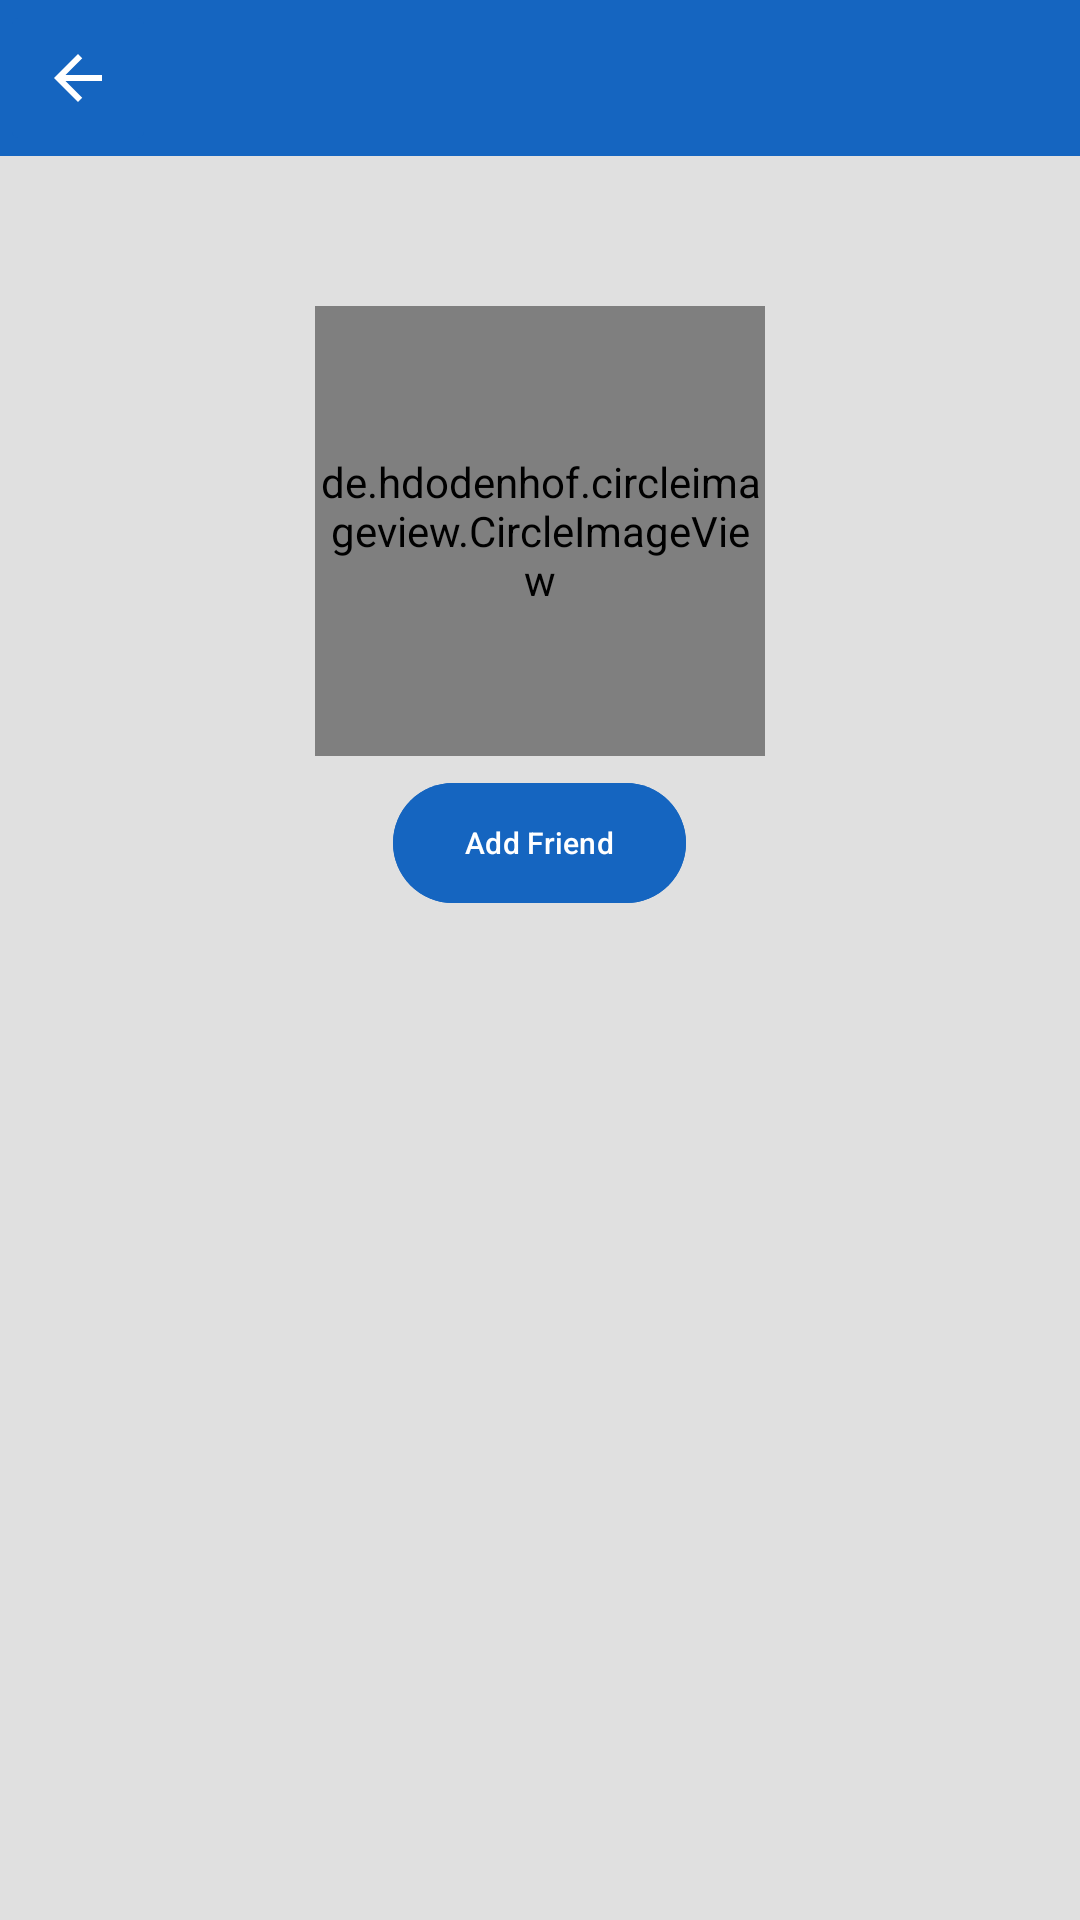

Where to tap for icons on this 1080x1920 app screen, as (x,y):
back: (78,78)
